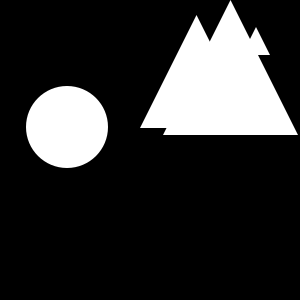rectangle: (26, 86, 108, 168)
triangle: (163, 0, 298, 135), (140, 15, 253, 128), (242, 27, 270, 55)
